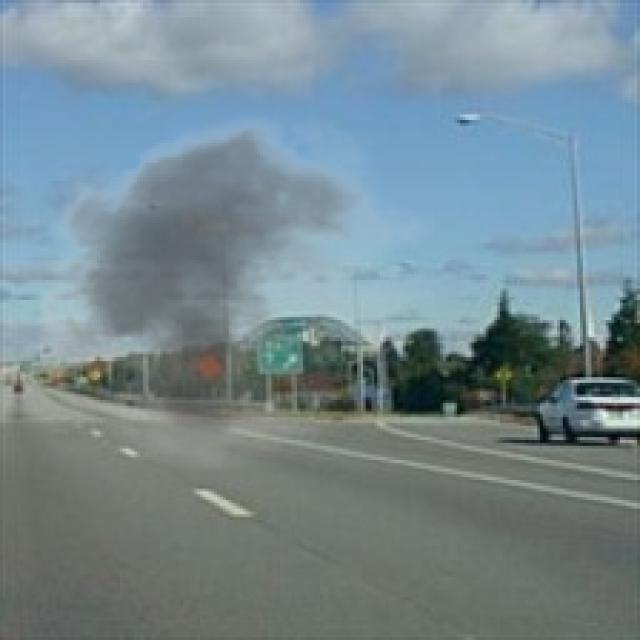smoke: (14, 100, 437, 471)
